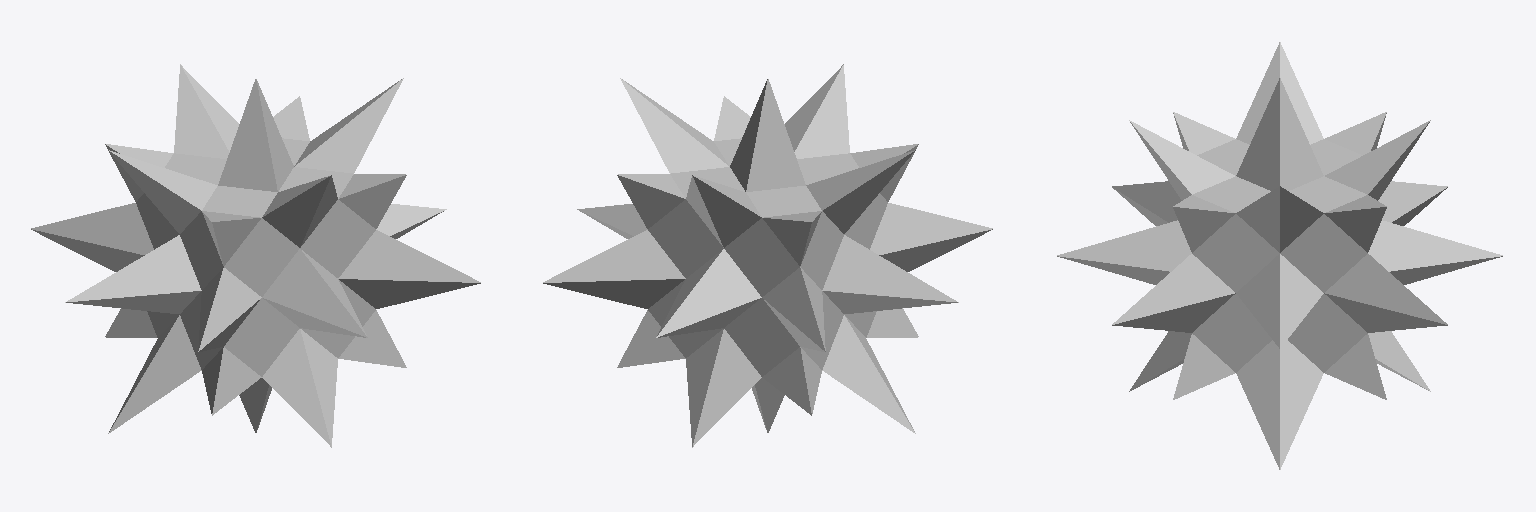
The model's file is enemy.obj.
3 renders of one model, left to right at view 1: azimuth 30°, elevation 25°; view 2: azimuth 150°, elevation 25°; view 3: azimuth 270°, elevation 25°, orthographic.
Visible parts, largest first — view 1: Cube; view 2: Cube; view 3: Cube.
Boxes of the visible parts, x1=… form: Cube: x1=31, y1=64, x2=480, y2=447; Cube: x1=543, y1=64, x2=992, y2=447; Cube: x1=1057, y1=42, x2=1502, y2=469.
Size of the model in its own units: 5.01 by 4.48 by 5.1.